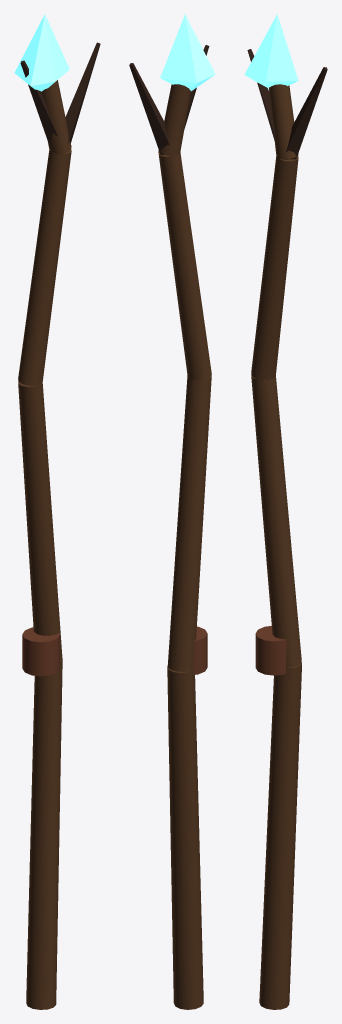
Rendered from arma_cajado_t1_galho.glb.
3 renders of one model, left to right at view 1: azimuth 30°, elevation 25°; view 2: azimuth 210°, elevation 25°; view 3: azimuth 330°, elevation 25°, orthographic.
Visible parts, largest first — view 1: arma_cajado_t1_galho; view 2: arma_cajado_t1_galho; view 3: arma_cajado_t1_galho.
Boxes of the visible parts, left/top/right/bottom form: arma_cajado_t1_galho: left=14, top=14, right=100, bottom=1009; arma_cajado_t1_galho: left=129, top=14, right=215, bottom=1009; arma_cajado_t1_galho: left=244, top=14, right=327, bottom=1009.
Size of the model in its own units: 0.1474 by 1.74 by 0.0752.
